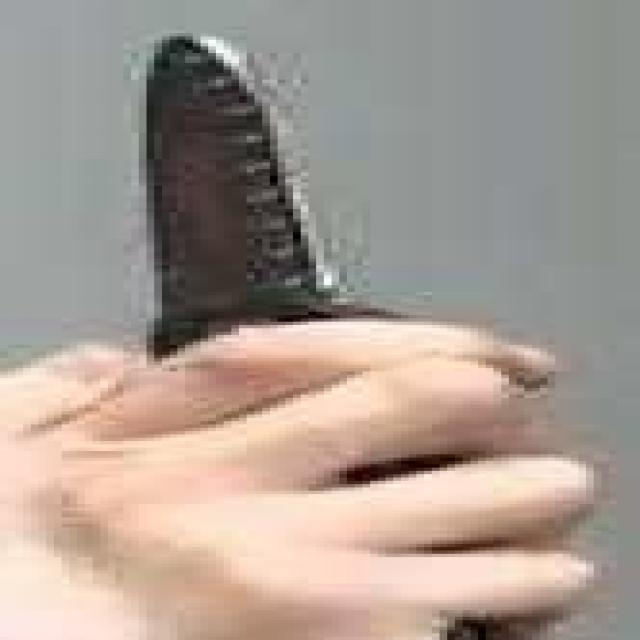Knife: (113, 11, 597, 640)
